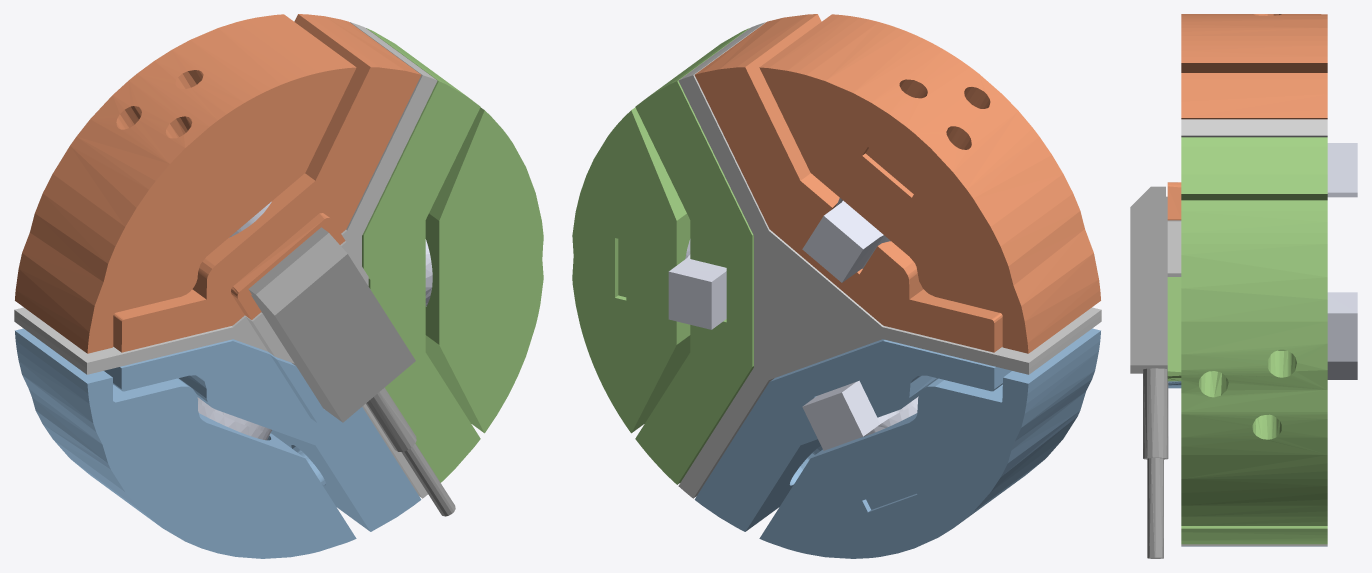
3 renders of one model, left to right at view 1: azimuth 30°, elevation 25°; view 2: azimuth 150°, elevation 25°; view 3: azimuth 270°, elevation 25°, orthographic.
Visible parts, largest first — view 1: ati_cover_middle, ati_cover_index, ati_cover_thumb, ati_base_middle, ati_base_thumb, viper, ati_base_index, mid_connect, ATI_nano17; view 2: ati_cover_middle, ati_cover_index, ati_cover_thumb, ati_base_middle, mid_connect, ati_base_thumb, ati_base_index, ATI_nano17 (×3); view 3: ati_cover_thumb, ati_base_thumb, viper, ati_cover_middle, ati_base_middle, ATI_nano17 (×3), mid_connect.
Boxes of the visible parts, x1,y1,x2,y2 form: ati_cover_middle: [15, 14, 356, 353]; ati_cover_index: [15, 328, 356, 558]; ati_cover_thumb: [425, 107, 543, 433]; ati_base_middle: [113, 14, 421, 352]; ati_base_thumb: [362, 28, 480, 482]; viper: [248, 227, 455, 516]; ati_base_index: [104, 339, 421, 531]; mid_connect: [14, 22, 437, 498]; ATI_nano17: [197, 397, 271, 440]; ati_cover_middle: [759, 14, 1100, 353]; ati_cover_index: [759, 328, 1100, 558]; ati_cover_thumb: [572, 107, 690, 433]; ati_base_middle: [694, 14, 1002, 352]; mid_connect: [678, 22, 1101, 498]; ati_base_thumb: [635, 28, 753, 484]; ati_base_index: [694, 339, 1011, 531]; ATI_nano17 (×3): [668, 198, 918, 450]; ati_cover_thumb: [1181, 200, 1327, 525]; ati_base_thumb: [1167, 137, 1327, 544]; viper: [1130, 186, 1181, 558]; ati_cover_middle: [1181, 14, 1327, 72]; ati_base_middle: [1167, 73, 1327, 220]; ATI_nano17 (×3): [1327, 143, 1357, 379]; mid_connect: [1167, 119, 1327, 546].
Bounding box in the file's own units: 0.0798 × 0.08 × 0.0341.
